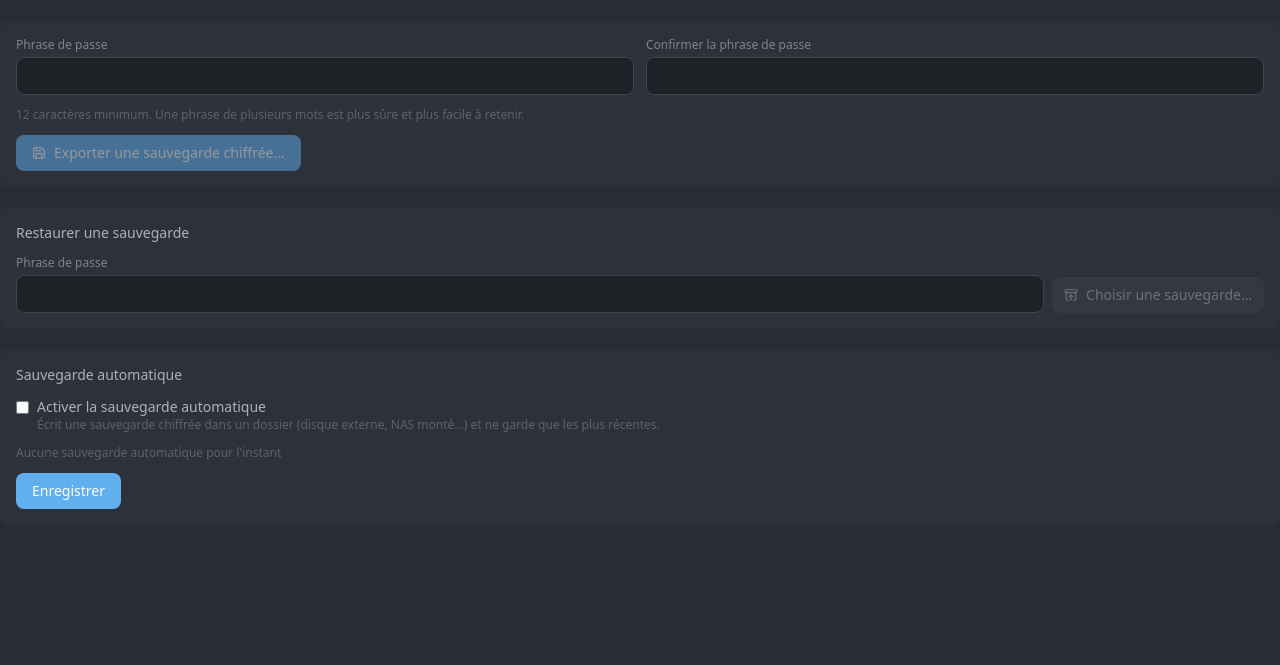
it: BackupPanel › active la sauvegarde automatique avec dossier et phrase de passe
The width and height of the screenshot is (1280, 665).
Click the checkbox labelled "Activer la sauvegarde automatique" at (22, 408), box 16,401 -> 29,414
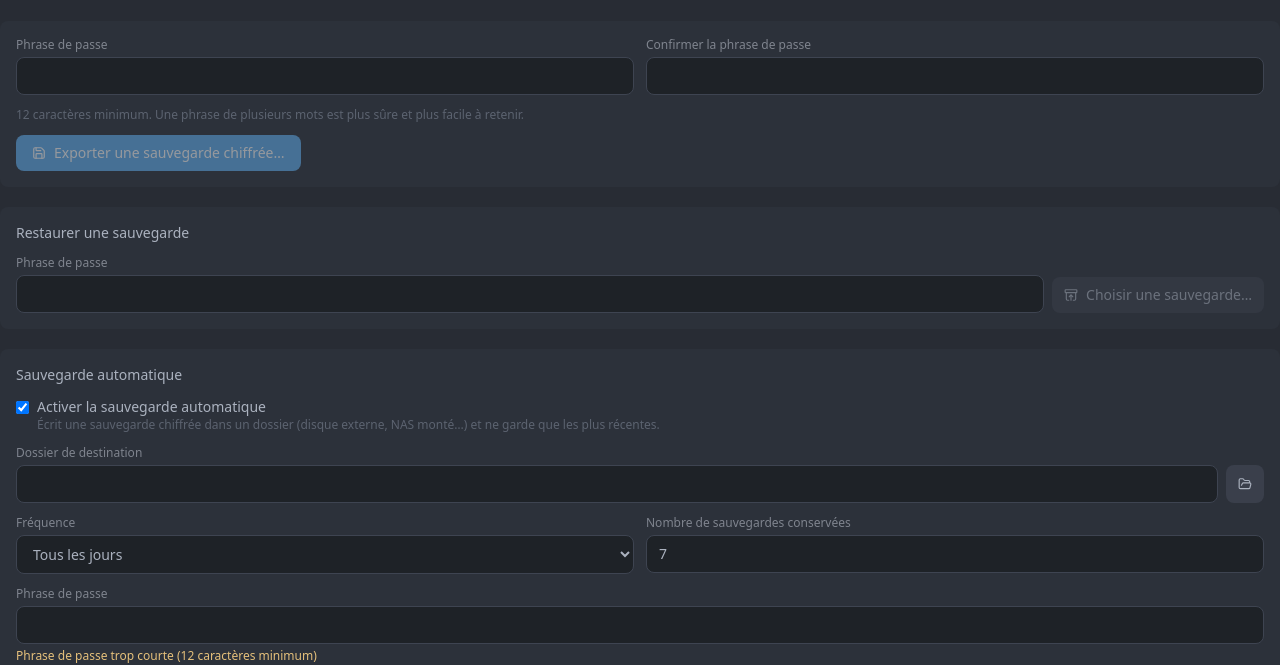
Click the button named "Parcourir…" at (1245, 484), box 1226,465 -> 1264,503
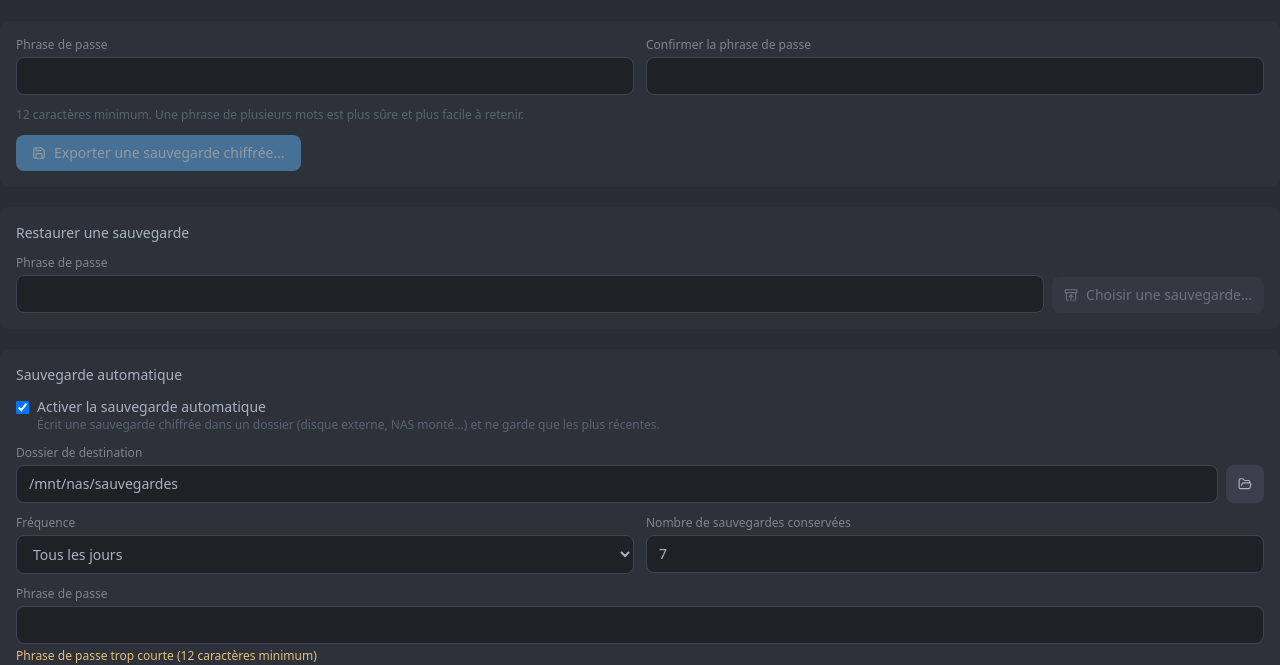
Now the field labelled "Dossier de destination" holds "/mnt/nas/sauvegardes", box 16,465 -> 1218,503
Type "une phrase de passe solide" into the password field labelled "Phrase de passe" below "Fréquence" at (640, 625), box 16,606 -> 1264,644
(page scrolled)
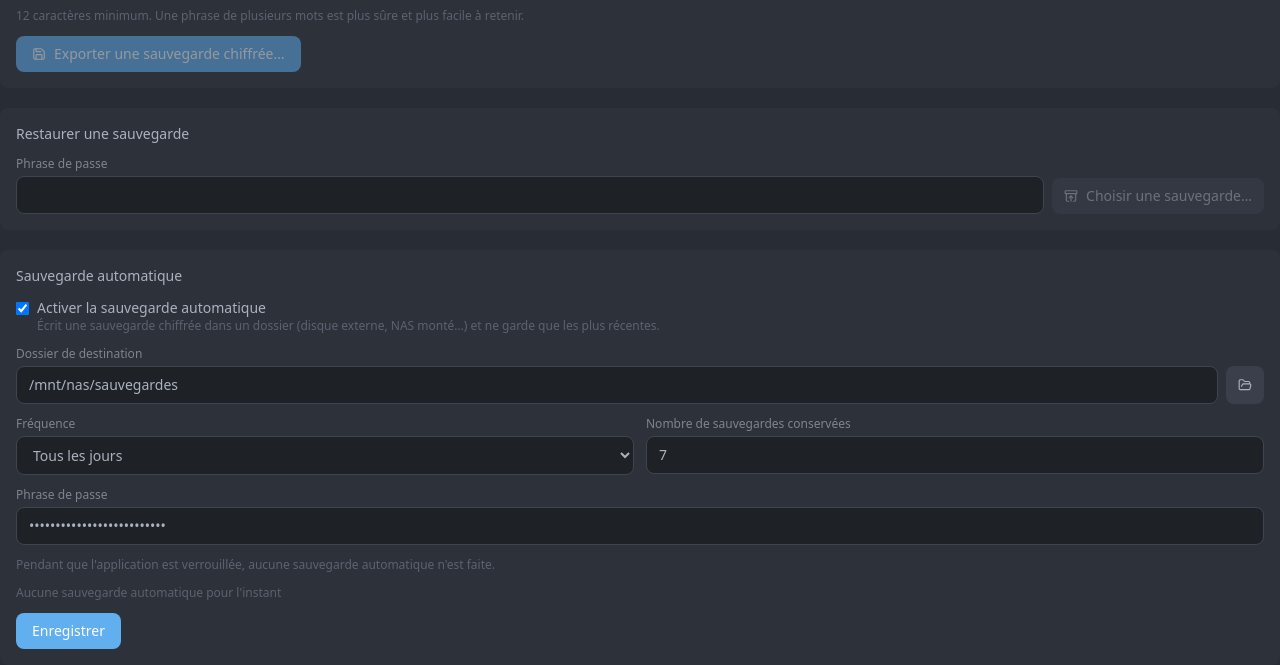
Click the button "Enregistrer" at (68, 631), box 16,613 -> 121,649
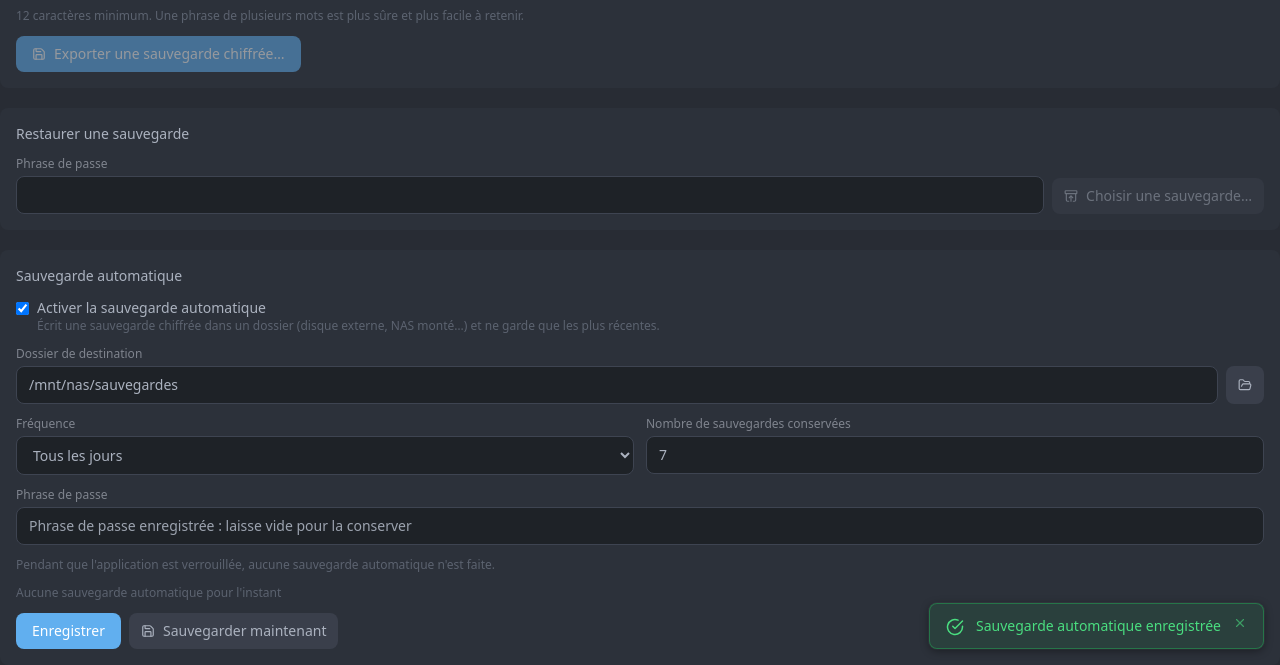
Now the button "Sauvegarder maintenant" is shown, box 129,613 -> 338,649
Now the password field labelled "Phrase de passe" below "Fréquence" is empty, box 16,507 -> 1264,545
